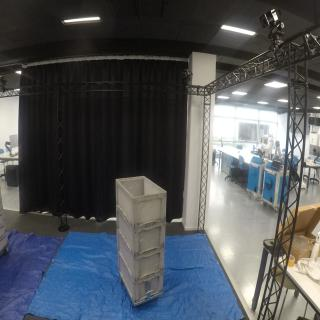Box4G: (115, 176, 169, 230), (117, 229, 170, 283), (116, 206, 168, 257), (118, 252, 166, 305)
